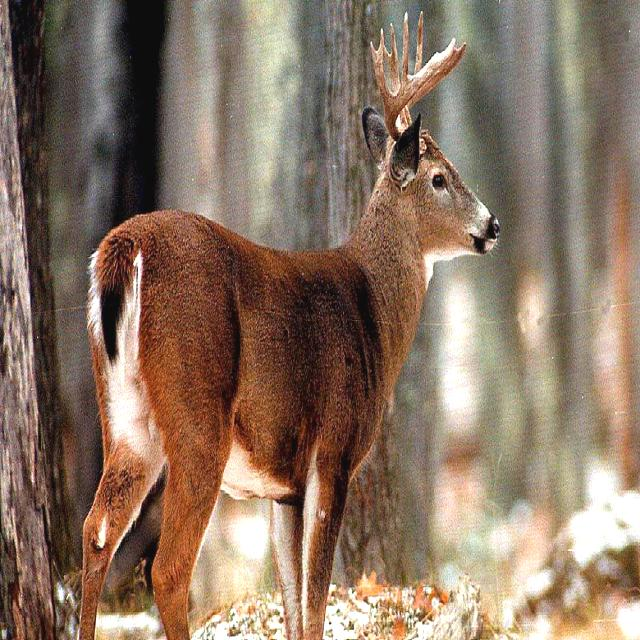deer: (328, 17, 509, 327)
